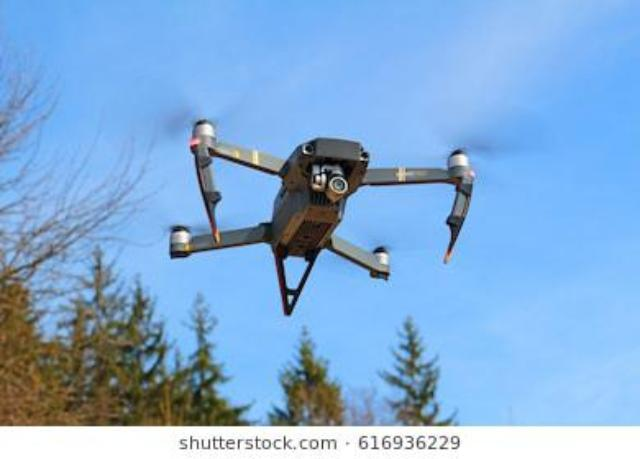drone: (104, 69, 564, 328)
